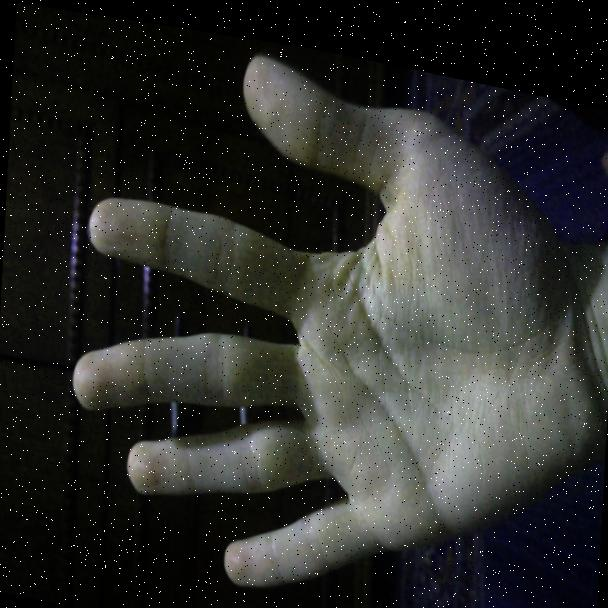five: (48, 6, 608, 608)
